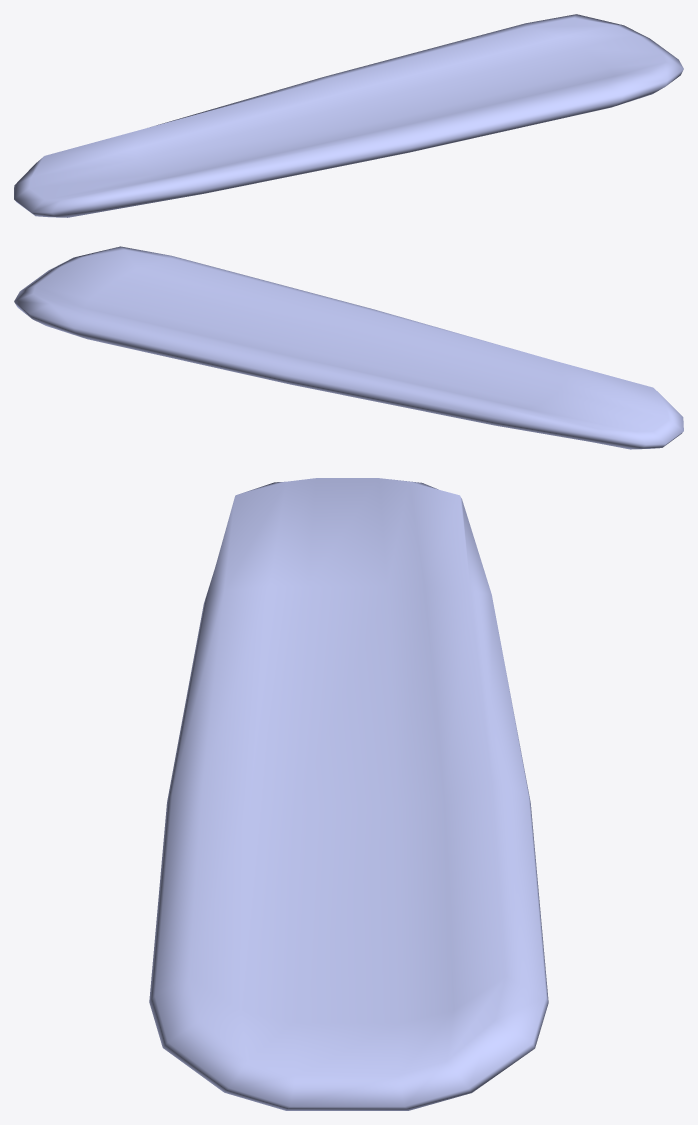
The model's file is TunnelFloor.fbx.
3 renders of one model, top to bottom at view 1: azimuth 30°, elevation 25°; view 2: azimuth 150°, elevation 25°; view 3: azimuth 270°, elevation 25°, orthographic. The views are drawn at different scales.
Parts seen in each view (by area): view 1: TunnelFloor; view 2: TunnelFloor; view 3: TunnelFloor.
Boxes of the visible parts, x1,y1,x2,y2 form: TunnelFloor: (14, 14, 683, 217); TunnelFloor: (14, 246, 683, 449); TunnelFloor: (149, 478, 548, 1110).
Size of the model in its own units: 998 by 38.05 by 269.
